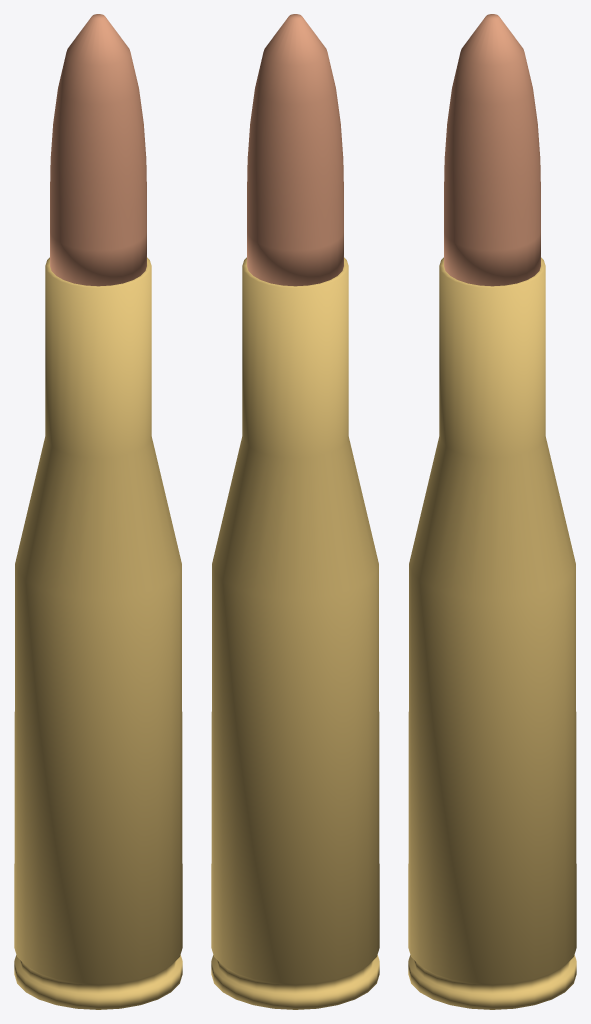
The model's file is 338_std.glb.
3 renders of one model, left to right at view 1: azimuth 30°, elevation 25°; view 2: azimuth 150°, elevation 25°; view 3: azimuth 270°, elevation 25°, orthographic.
Visible parts, largest first — view 1: vaina, bala; view 2: vaina, bala; view 3: vaina, bala.
Boxes of the visible parts, x1=… form: vaina: x1=14, y1=257, x2=182, y2=1009; bala: x1=50, y1=14, x2=146, y2=286; vaina: x1=211, y1=257, x2=379, y2=1009; bala: x1=247, y1=14, x2=343, y2=286; vaina: x1=408, y1=257, x2=576, y2=1009; bala: x1=444, y1=14, x2=540, y2=286.
Bounding box in the file's own units: 0.0149 × 0.0935 × 0.0149.
